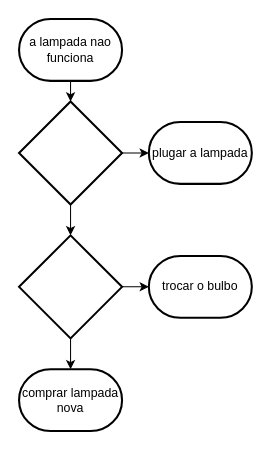
Some shapes in this 270 by 449 pixel diagram are drawn without their labels. Here are the shapes that lost their labels. From the top down, the box of each, then its label:
(18, 100, 123, 205): a lampada estava plugada ?
(18, 234, 123, 339): o bulbo queimou ?
